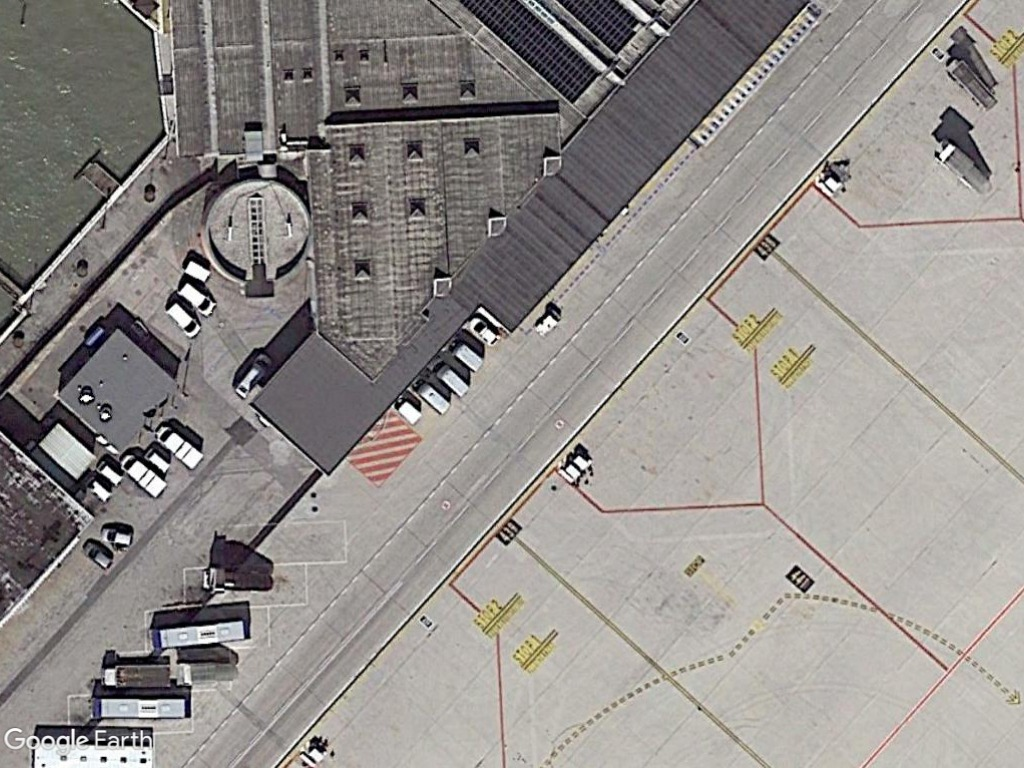bus: (149, 617, 251, 654), (89, 695, 195, 726)
car: (152, 424, 207, 471), (231, 351, 280, 400), (118, 450, 168, 497), (160, 297, 204, 340), (176, 280, 218, 320), (466, 313, 504, 350), (80, 536, 119, 572), (99, 522, 137, 550)
stairtruck: (941, 51, 1001, 113)
truck: (101, 659, 195, 689)
van: (423, 355, 472, 399), (409, 375, 456, 417), (441, 333, 488, 373)
